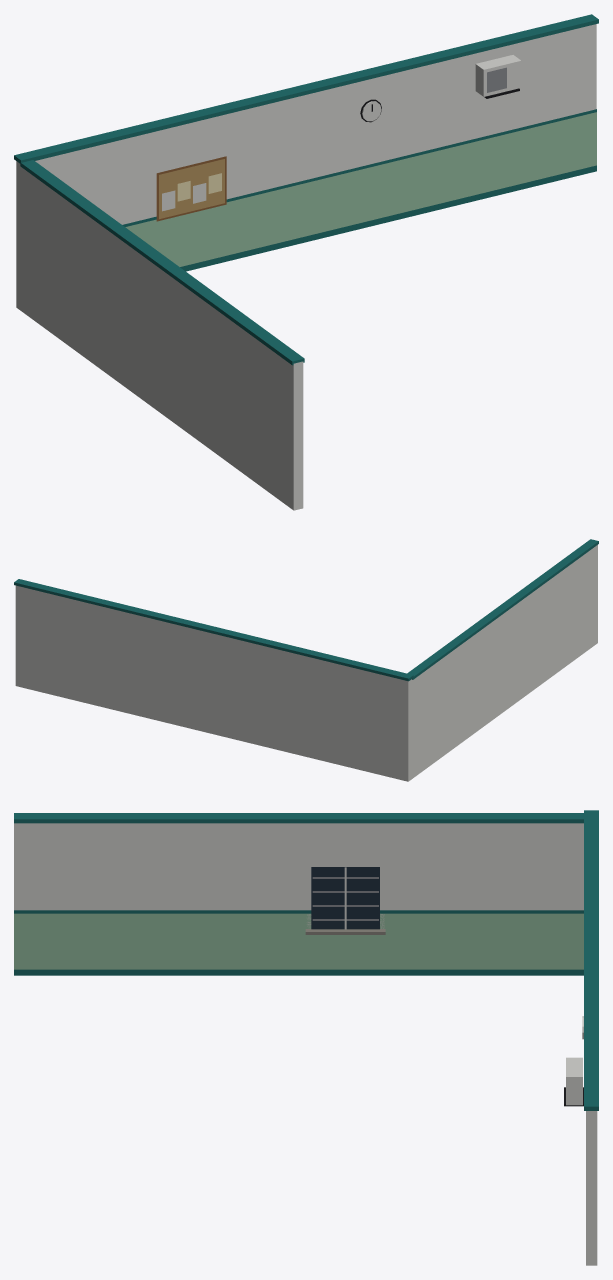
The model's file is bld_room_clinic.glb.
3 renders of one model, top to bottom at view 1: azimuth 30°, elevation 25°; view 2: azimuth 150°, elevation 25°; view 3: azimuth 270°, elevation 25°, orthographic. The views are drawn at different scales.
Visible parts, largest first — view 1: body; view 2: body; view 3: body.
Part boxes in pixels (x1,y1,x2,y2): body: (14,14,598,510); body: (14,539,598,781); body: (14,810,598,1265).
Size of the model in its own units: 12.26 by 3.08 by 10.23.
